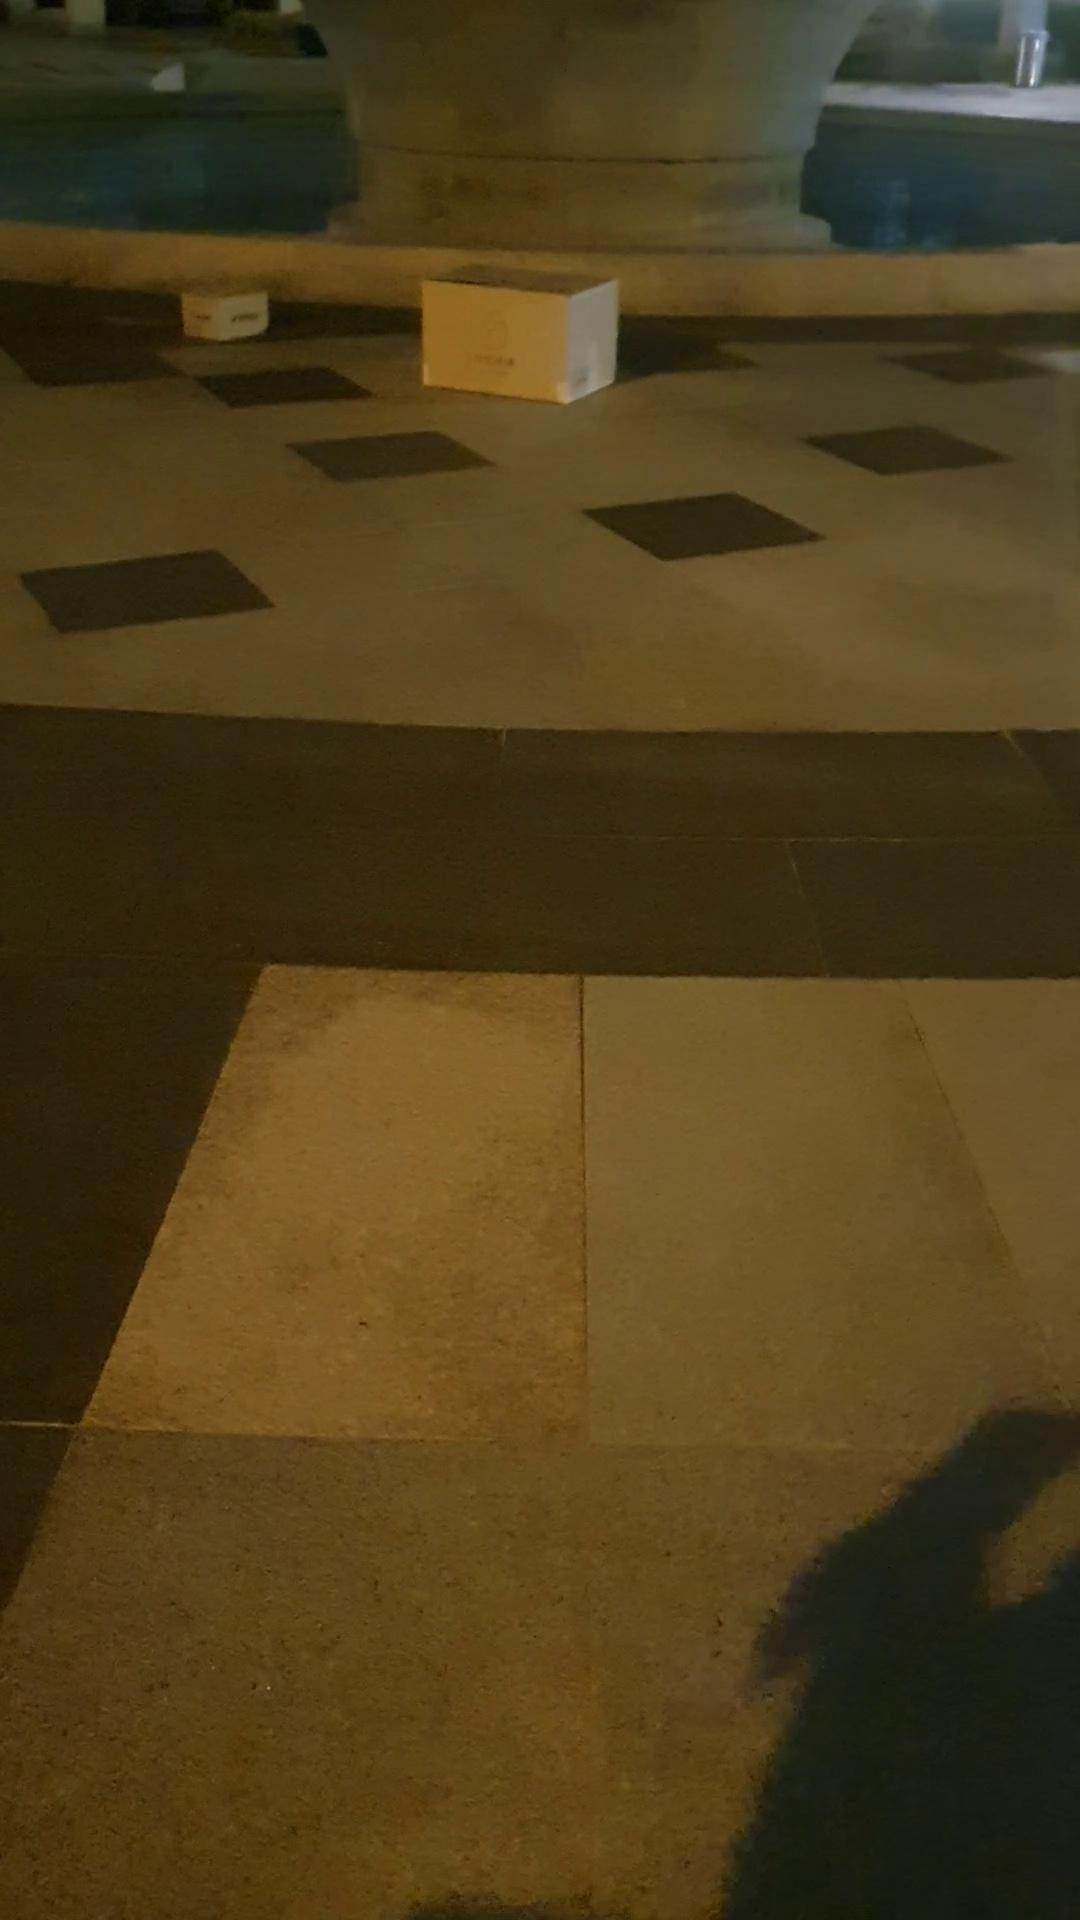Box: (411, 245, 636, 407), (166, 268, 278, 345)
